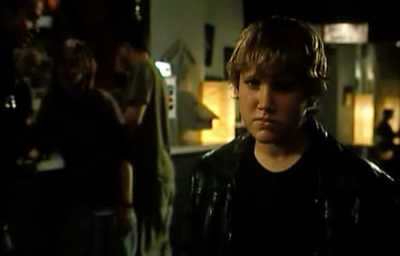face: (240, 65, 299, 144)
mcu: (1, 1, 400, 256)
person: (167, 13, 400, 256)
